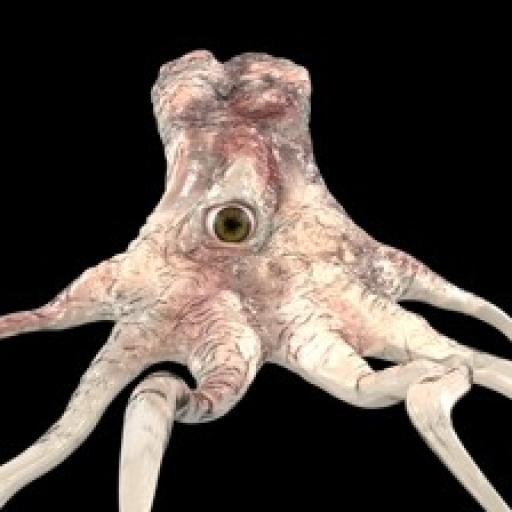dalek: (3, 41, 512, 512)
